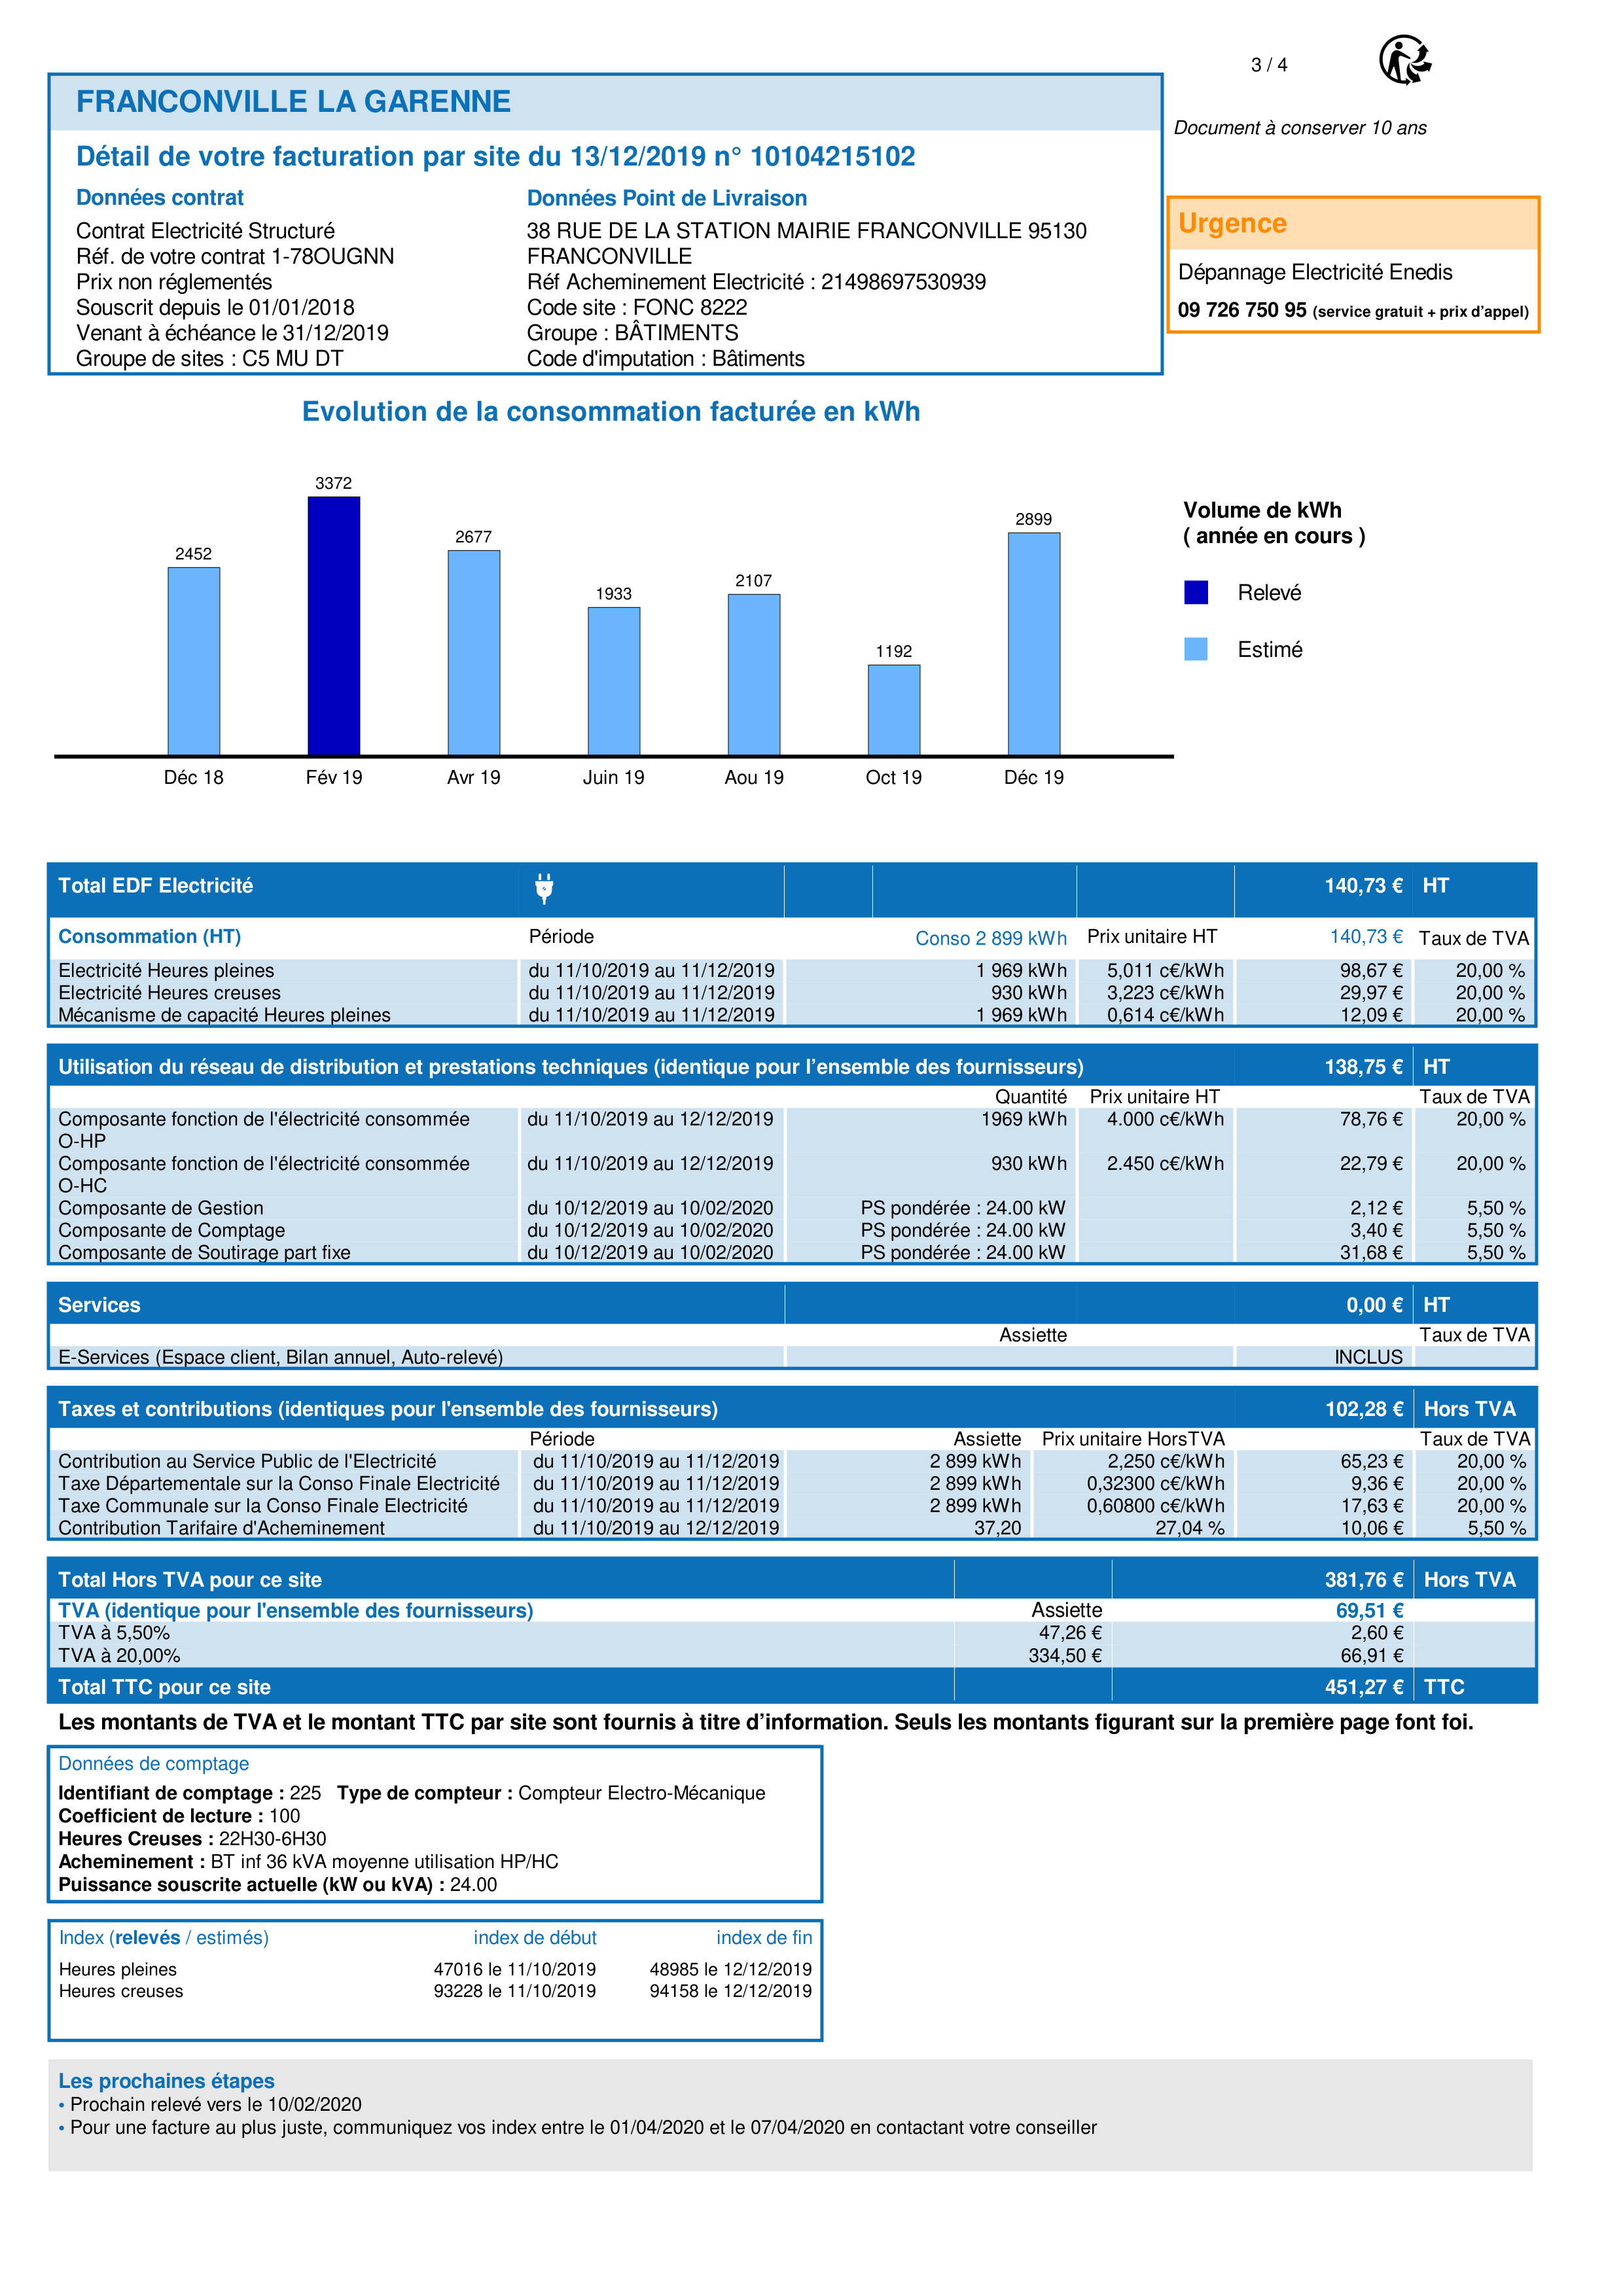area: (49, 1919, 824, 2040)
type_indicator: (46, 1922, 285, 1954)
